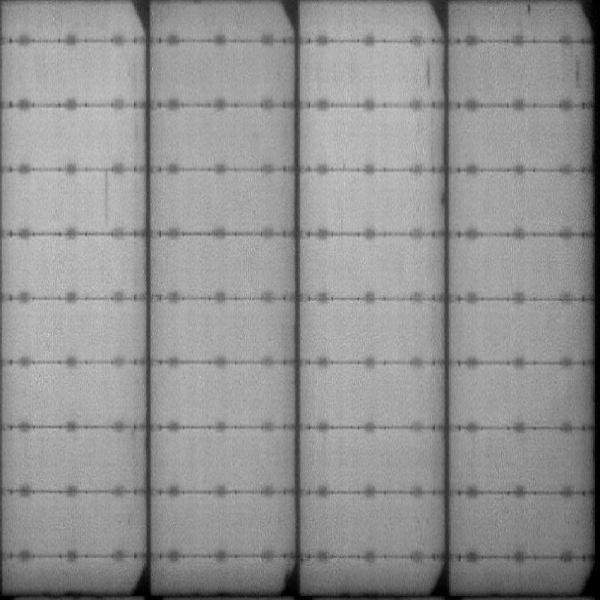scratch: (99, 163, 112, 225), (568, 55, 587, 97), (423, 57, 437, 91)
